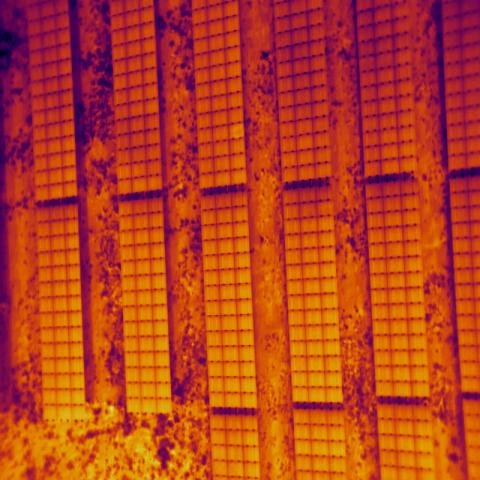fault: (228, 123, 245, 140)
